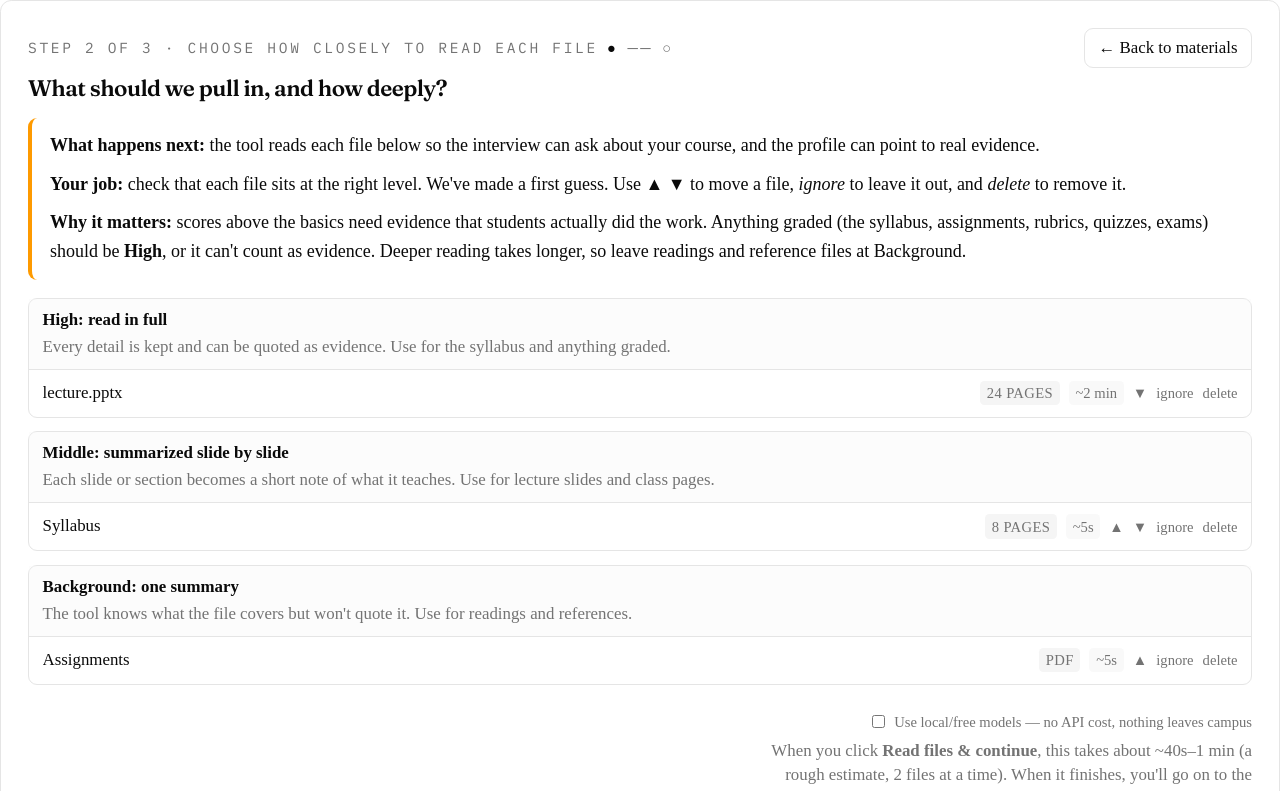
Scenario: TriageStep › delete button DELETEs the material and removes it from the list
This screenshot has width=1280, height=791.
What coordinates should you click on to do the following:
click the button "delete" in the row of "~2 min"
I would click on:
 (1220, 393)
Its box is [1203,383,1238,403].
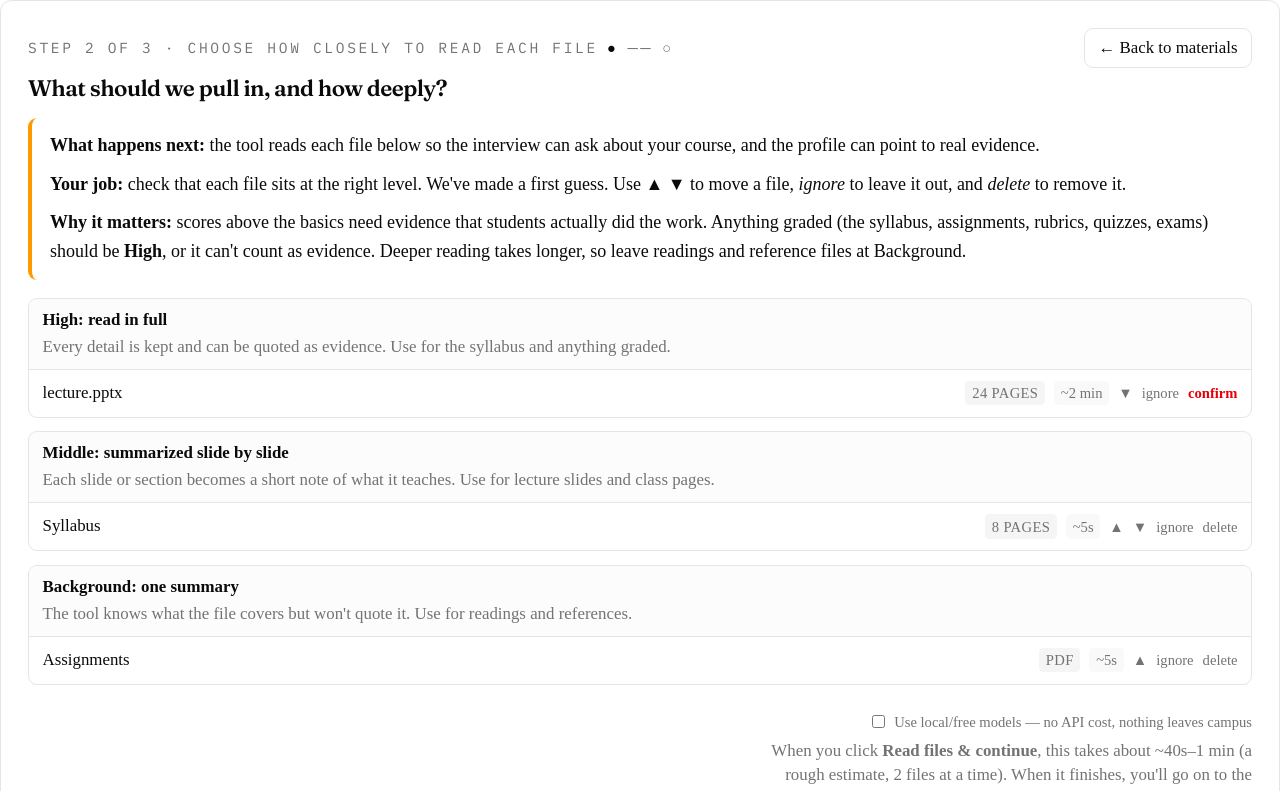
What coordinates should you click on to do the following:
click the button "confirm"
I would click on:
 (1213, 393)
Its box is [1188,383,1238,403].
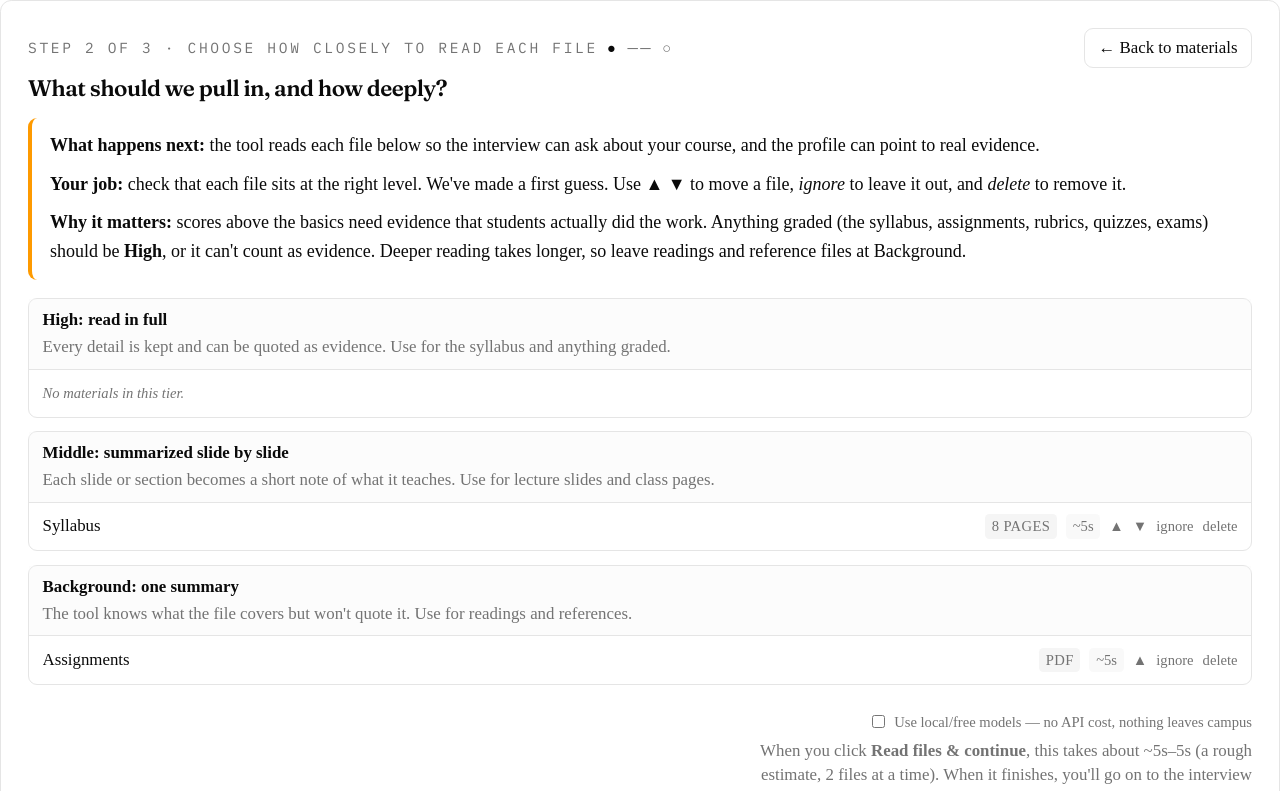
Expected: the text "lecture.pptx" is gone
